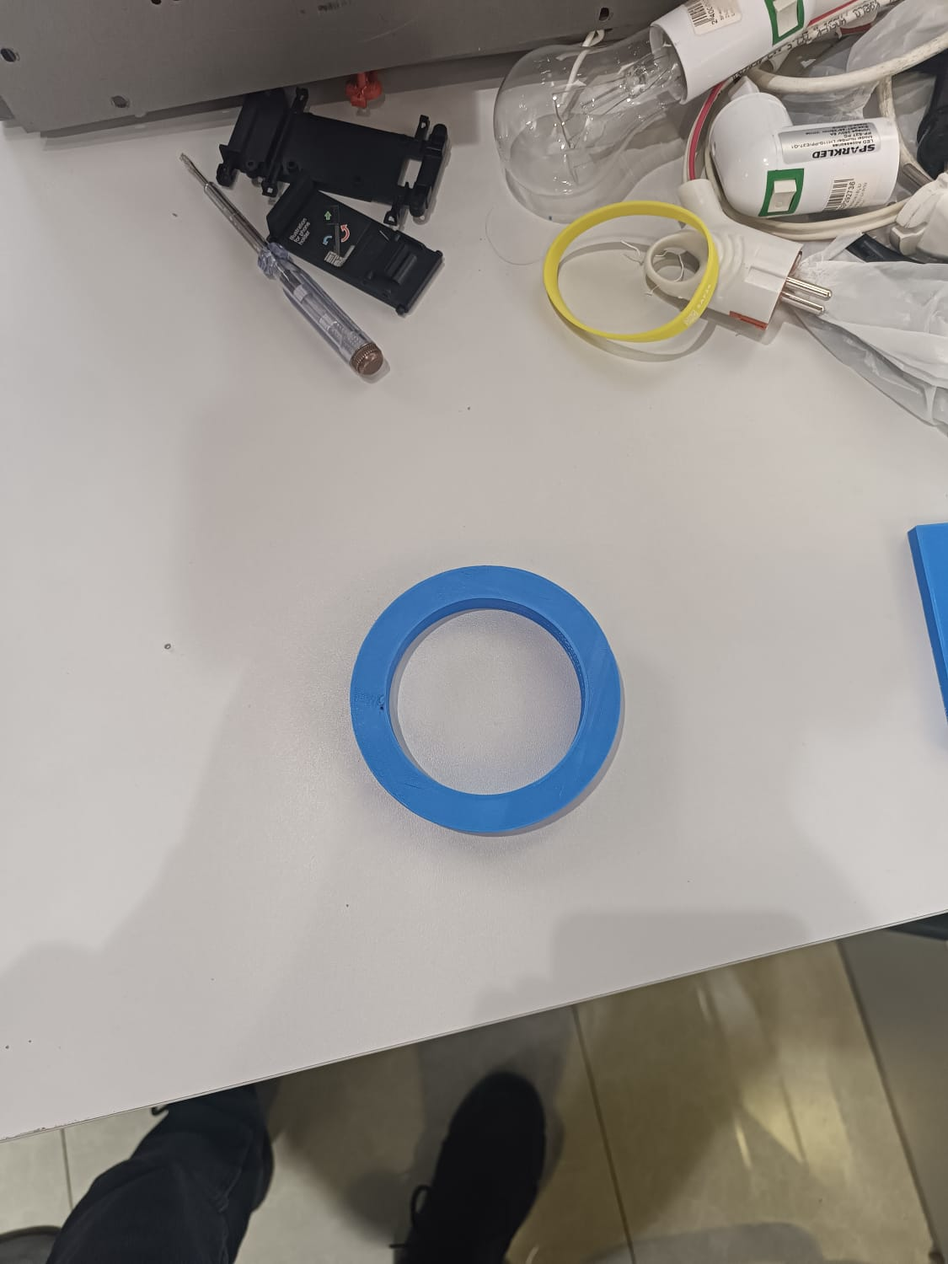Circle: (336, 560, 632, 845)
